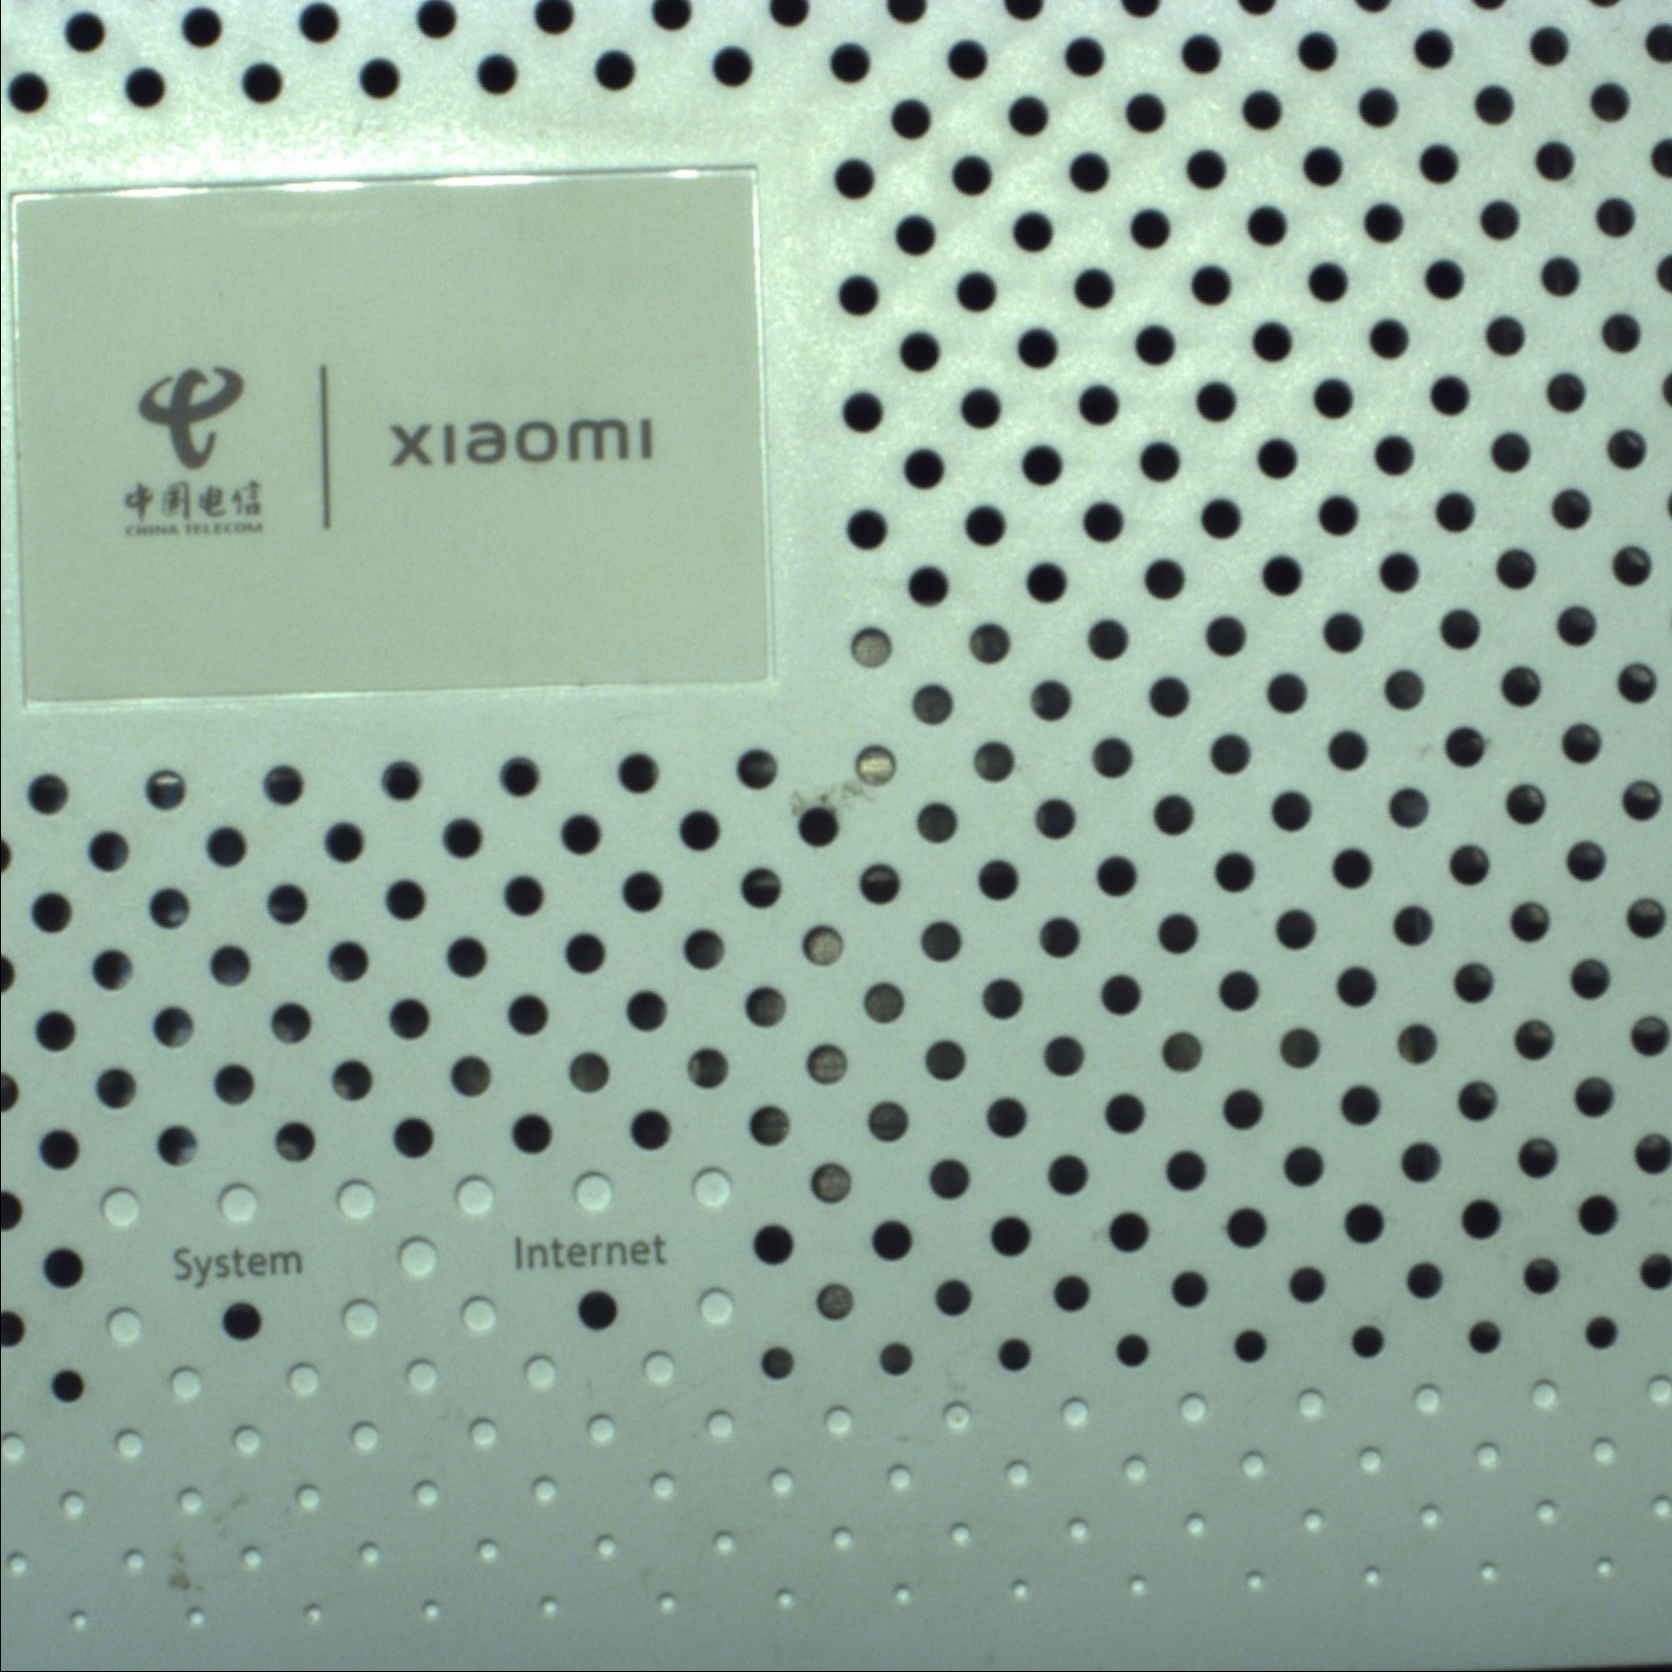MAA_Telecom: (93, 351, 674, 542)
